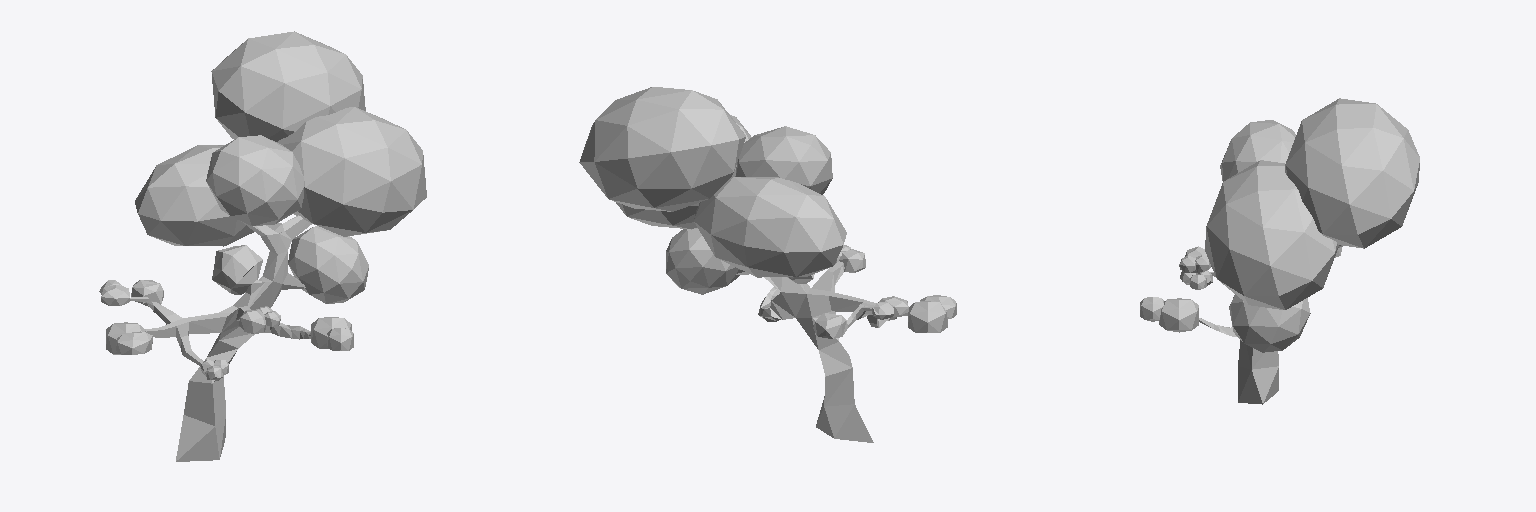
File: tree1.obj
The picture shows the model from 3 angles: view 1: azimuth 30°, elevation 25°; view 2: azimuth 150°, elevation 25°; view 3: azimuth 270°, elevation 25°; orthographic projection.
Parts seen in each view (by area): view 1: Box001; view 2: Box001; view 3: Box001.
Part boxes in pixels (left/top/right/bottom): Box001: left=99, top=31, right=426, bottom=461; Box001: left=579, top=87, right=956, bottom=442; Box001: left=1140, top=98, right=1419, bottom=404.
Size of the model in its own units: 15.45 by 15.78 by 11.49.